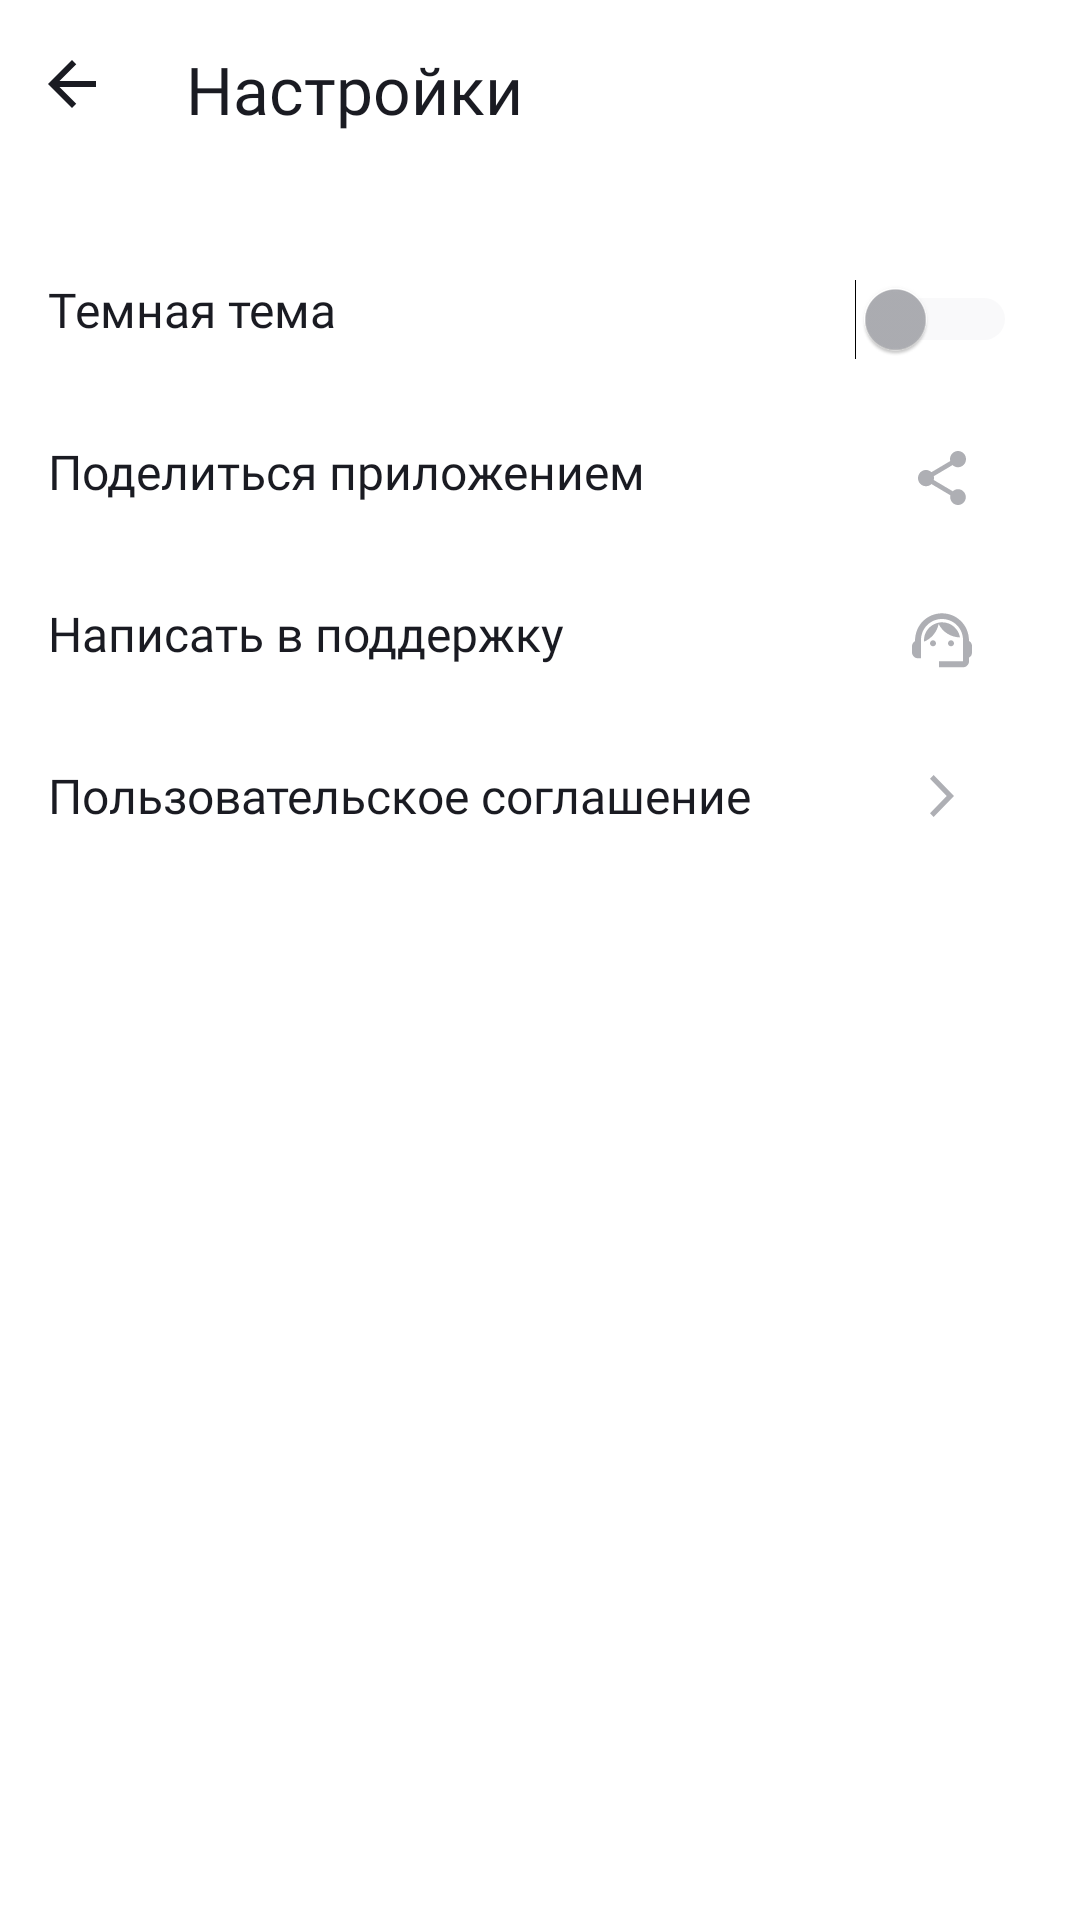

Where to tap for icons on this 1080x1920 app screen, as point (x, y):
left arrow: point (72, 84)
share app: point (942, 478)
